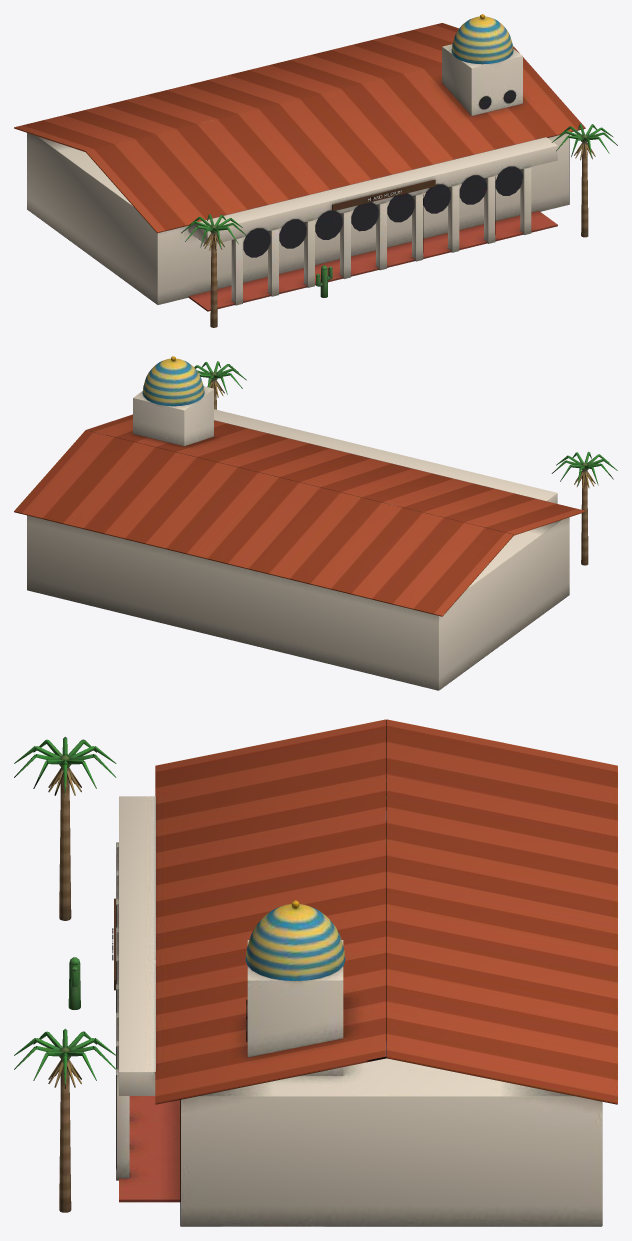
Rendered from museo_heard.glb.
The picture shows the model from 3 angles, top to bottom: view 1: azimuth 30°, elevation 25°; view 2: azimuth 150°, elevation 25°; view 3: azimuth 270°, elevation 25°; orthographic projection. The views are drawn at different scales.
Parts seen in each view (by area): view 1: museo_heard; view 2: museo_heard; view 3: museo_heard.
Part boxes in pixels (x1=…): museo_heard: x1=14, y1=14, x2=617, y2=327; museo_heard: x1=14, y1=356, x2=617, y2=690; museo_heard: x1=14, y1=719, x2=617, y2=1226.
Bounding box in the file's own units: 41.61 × 16.43 × 31.48.
1 material, 1 textured.
